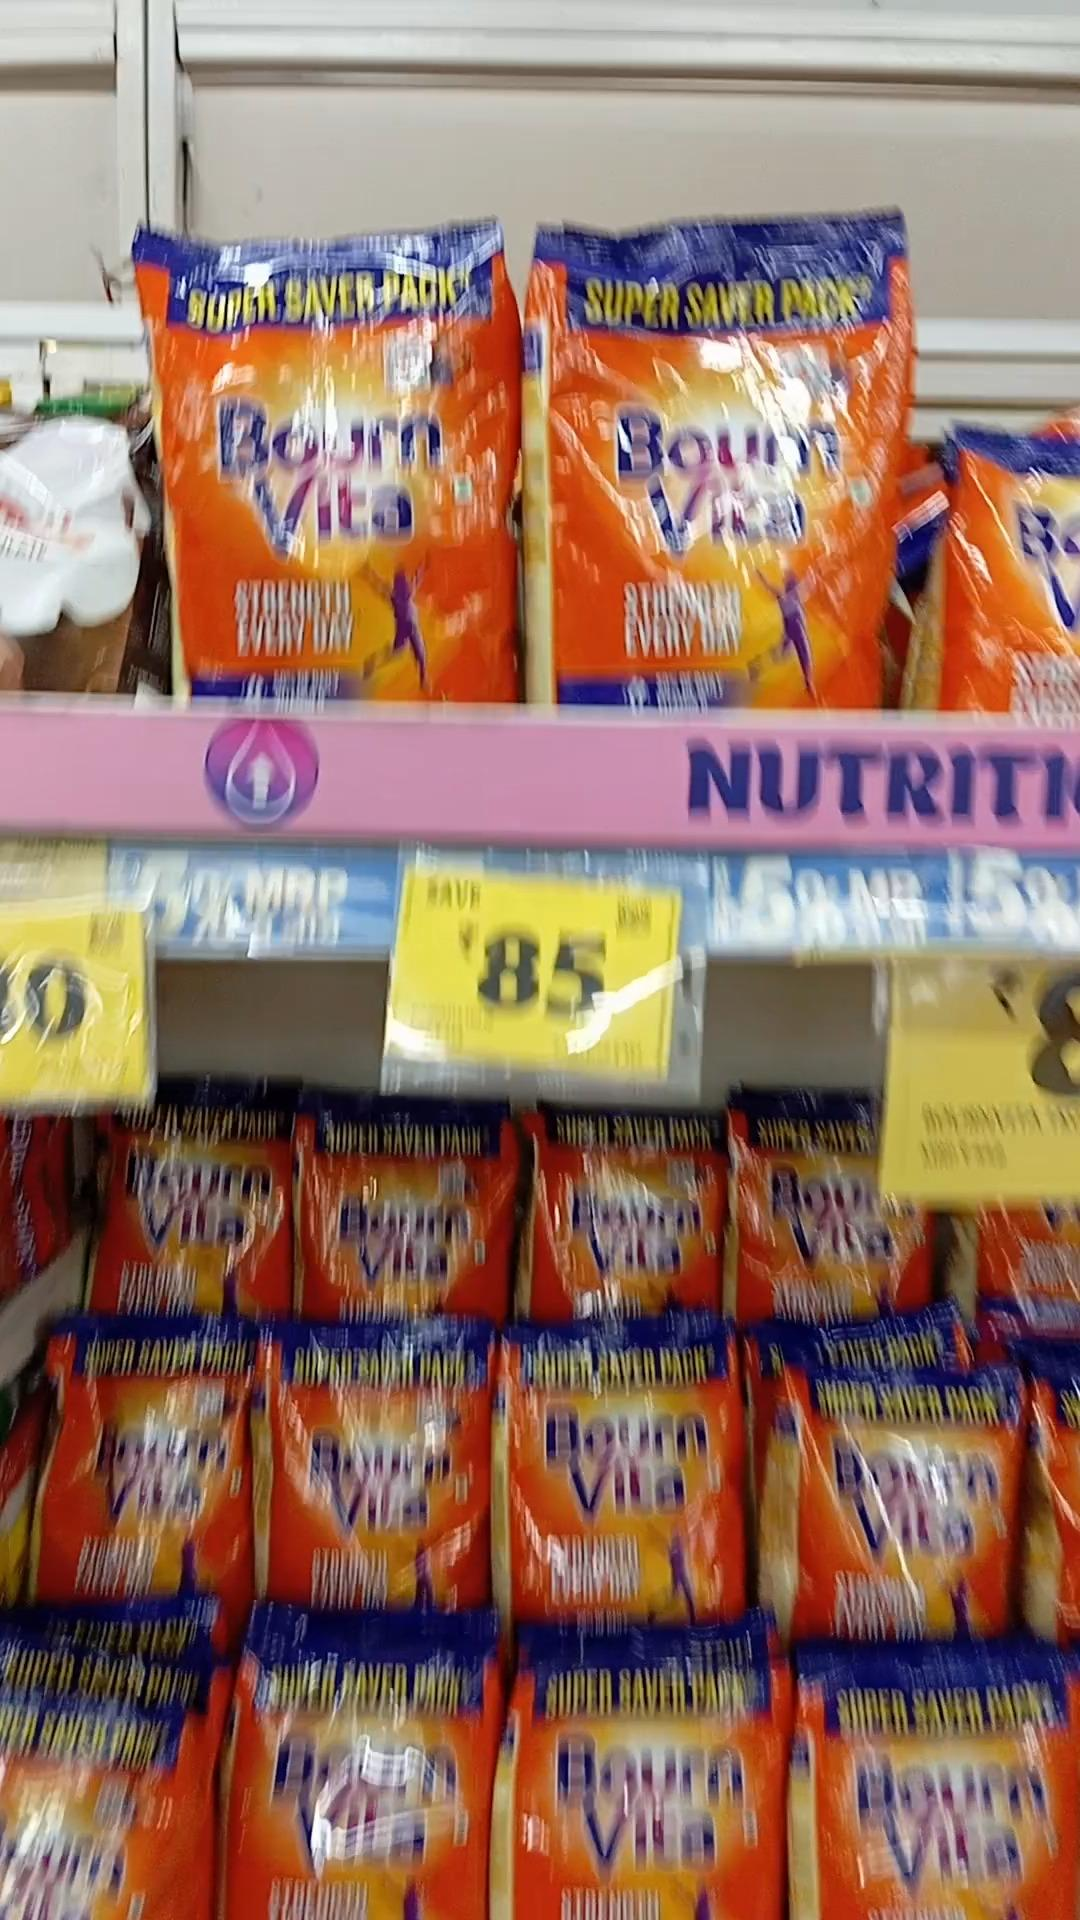BOURN_VITA_1_KG_POUCH: (530, 220, 882, 720), (146, 228, 517, 699), (512, 1619, 781, 1920), (798, 1635, 1080, 1920), (241, 1598, 489, 1920), (505, 1320, 741, 1605), (251, 1320, 484, 1588), (795, 1361, 1014, 1625), (41, 1320, 236, 1585), (297, 1089, 517, 1312), (535, 1101, 727, 1300), (99, 1112, 282, 1311)
